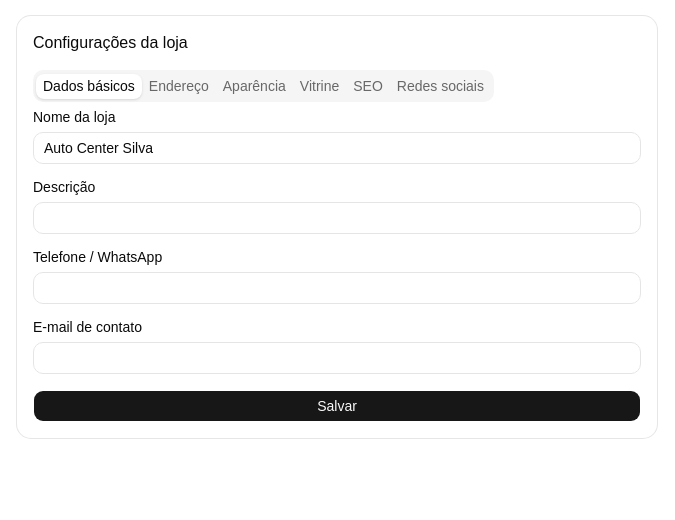
ConfiguracoesPage › mostra erro de validação quando o nome da loja fica vazio
Clear the field labelled "Nome da loja" at (337, 148), box [33,132,641,164]
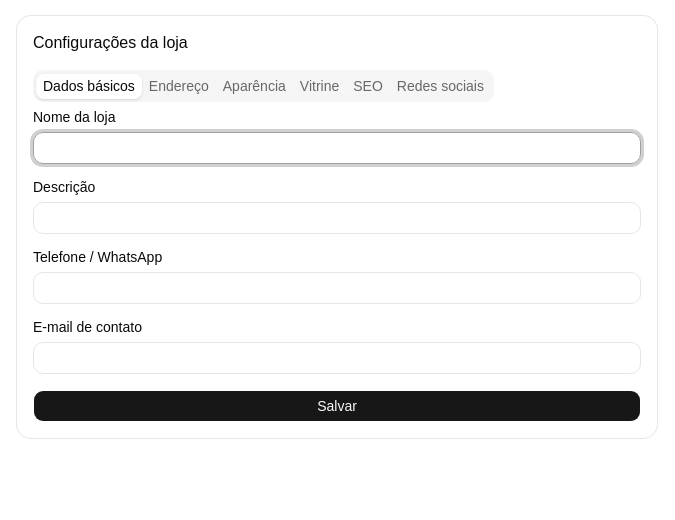
Click the button "Salvar" at (337, 406), box [33,390,641,422]
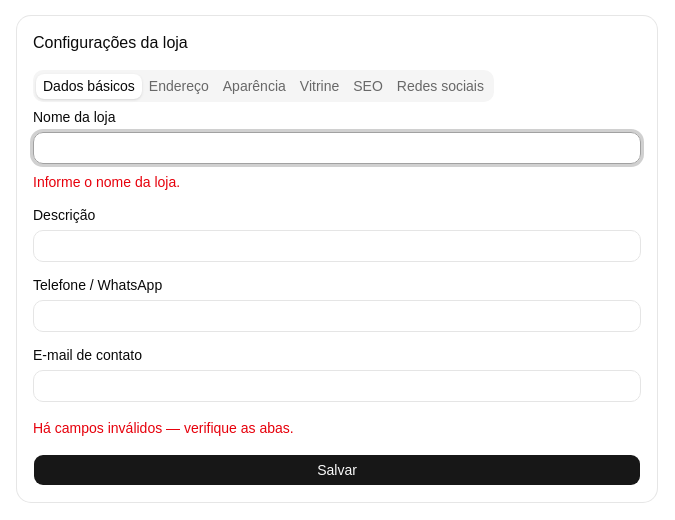
Expected: the text "Informe o nome da loja." is shown, [33,174,180,190]
